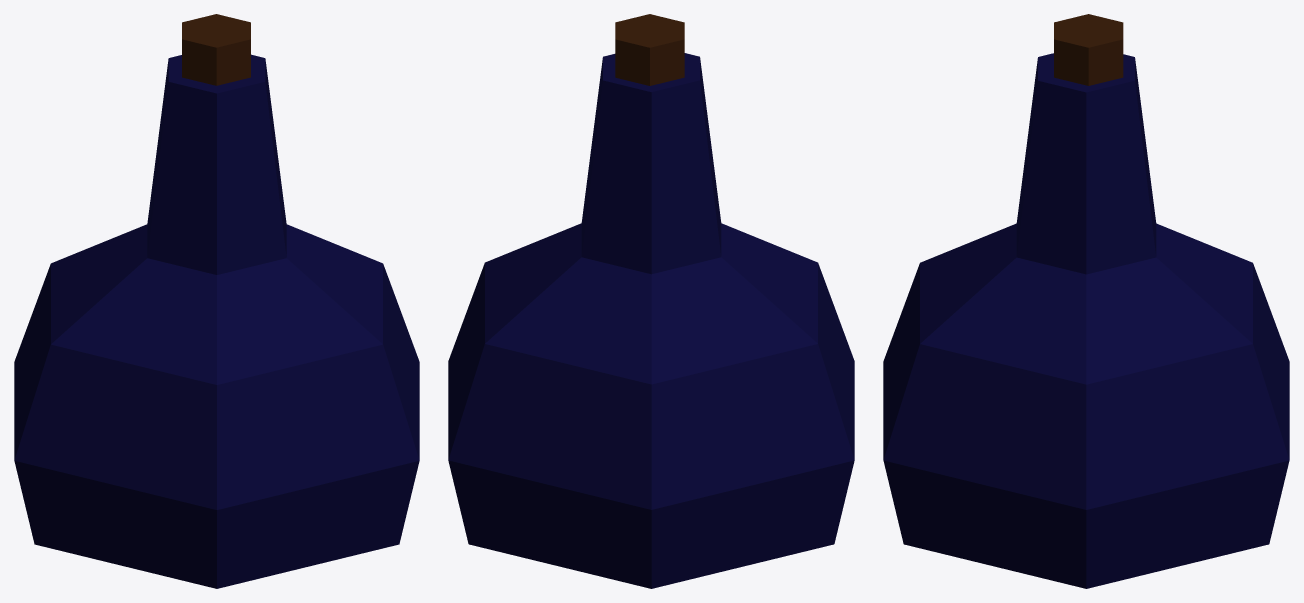
Rendered from Bottle04.fbx.
3 views of the same model, side by side, from view 1: azimuth 30°, elevation 25°; view 2: azimuth 150°, elevation 25°; view 3: azimuth 270°, elevation 25° (orthographic).
Parts seen in each view (by area): view 1: Cylinder002; view 2: Cylinder002; view 3: Cylinder002.
Part boxes in pixels (bbox=[...]): Cylinder002: bbox=[14, 14, 419, 588]; Cylinder002: bbox=[448, 14, 854, 588]; Cylinder002: bbox=[883, 14, 1289, 588].
Size of the model in its own units: 22.82 by 25.19 by 19.76.
